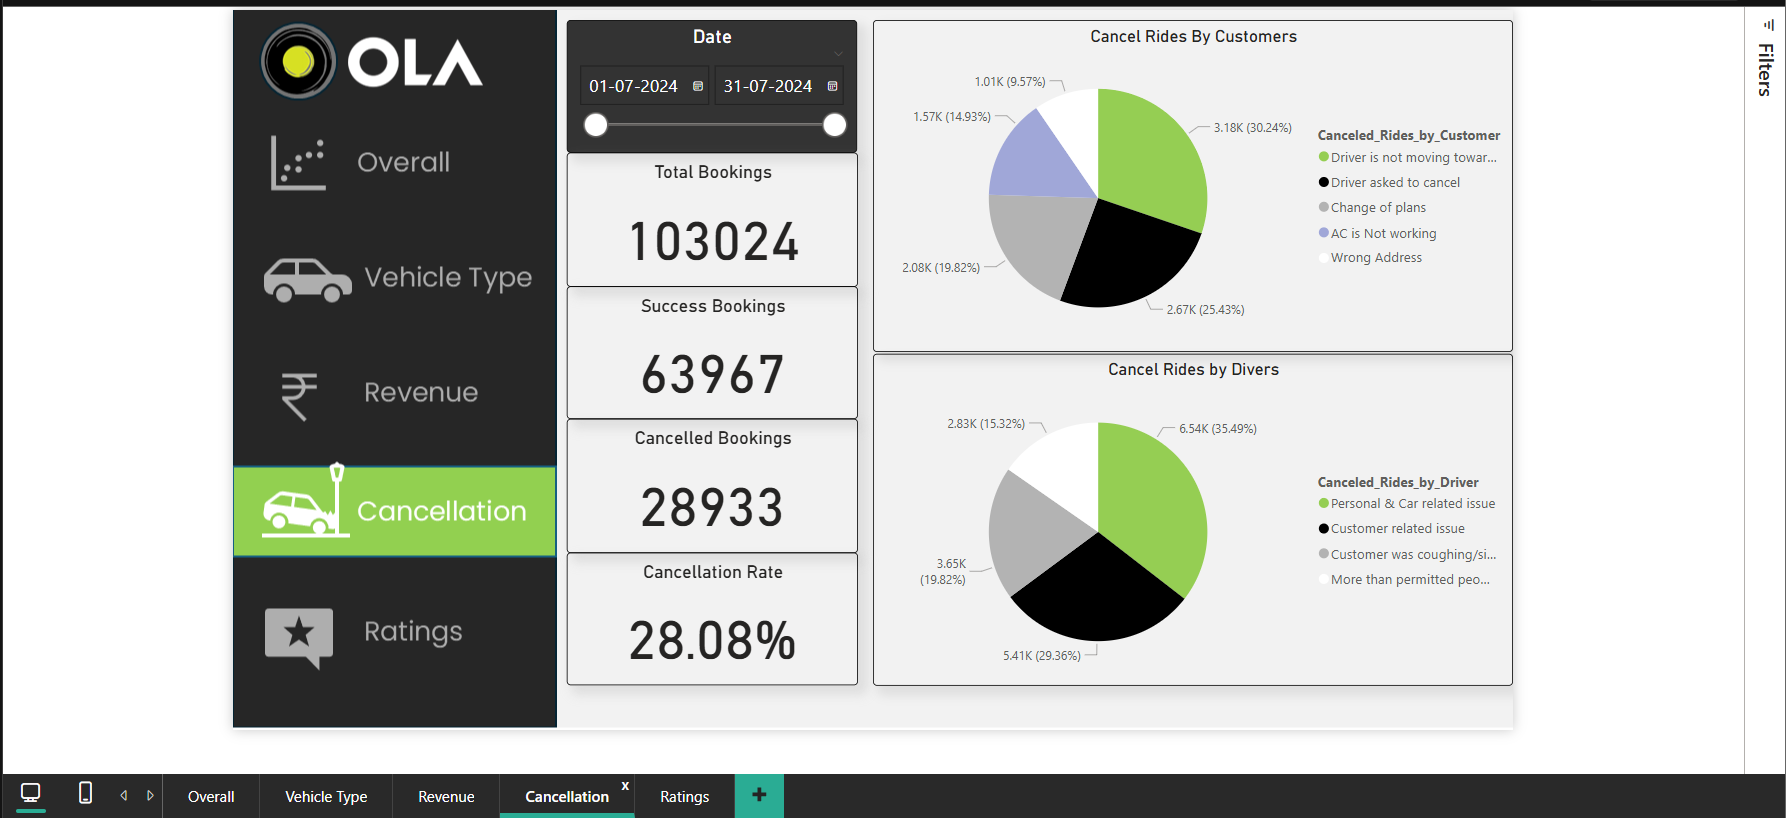

The dashboard page shown, as its layout file describes it:
{"tool":"powerbi","page":{"name":"Cancellation","canvas":[1280,720],"ordinal":3},"visuals":[{"type":"actionButton","box":[0,577.8,324.4,91.1],"z":0},{"type":"actionButton","box":[0,223.3,324.4,91.1],"z":1000},{"type":"actionButton","box":[0,337.8,324.4,91.1],"z":2000},{"type":"actionButton","box":[0,112.2,324.4,91.1],"z":3000},{"type":"pieChart","title":"Cancel Rides By Customer","fields":{"Category":["Booking.Cancelled Rides by Customer"],"Y":["CountNonNull(Booking.Cancelled Rides by Customer)"]},"box":[694,0,521.4,359.5],"z":4000},{"type":"pieChart","title":"Cancelled By Driver","fields":{"Y":["CountNonNull(Booking.Cancelled Rides by Driver)"],"Category":["Booking.Cancelled Rides by Driver"]},"box":[694,359.5,521.4,359.5],"z":5000},{"type":"slicer","title":"Date","fields":{"Values":["Booking.Date"]},"box":[342.9,10.7,351.2,121.4],"z":6000},{"type":"card","title":"Total Bookings","fields":{"Values":["CountNonNull(Booking.Booking_ID)"]},"box":[342.9,179.8,351.2,125],"z":7000},{"type":"card","title":"Success Bookings","fields":{"Values":["CountNonNull(Booking.Booking_ID)"]},"box":[342.9,359.5,340.5,147.6],"z":8000},{"type":"card","title":"Canceled Booking","fields":{"Values":["CountNonNull(Booking.Booking_ID)"]},"box":[342.9,578.6,340.5,141.7],"z":9000}]}

Visuals, with their boxes on the page's 1280x720 design canvas (x1, y1, x2, y2). These are canvas units, not pixel positions in the 1786x818 screenshot, which may show the page scaled, cropped or inside an application window:
actionButton: bbox=[0, 578, 324, 669]
actionButton: bbox=[0, 223, 324, 314]
actionButton: bbox=[0, 338, 324, 429]
actionButton: bbox=[0, 112, 324, 203]
"Cancel Rides By Customer" pieChart: bbox=[694, 0, 1215, 360]
"Cancelled By Driver" pieChart: bbox=[694, 360, 1215, 719]
"Date" slicer: bbox=[343, 11, 694, 132]
"Total Bookings" card: bbox=[343, 180, 694, 305]
"Success Bookings" card: bbox=[343, 360, 683, 507]
"Canceled Booking" card: bbox=[343, 579, 683, 720]
